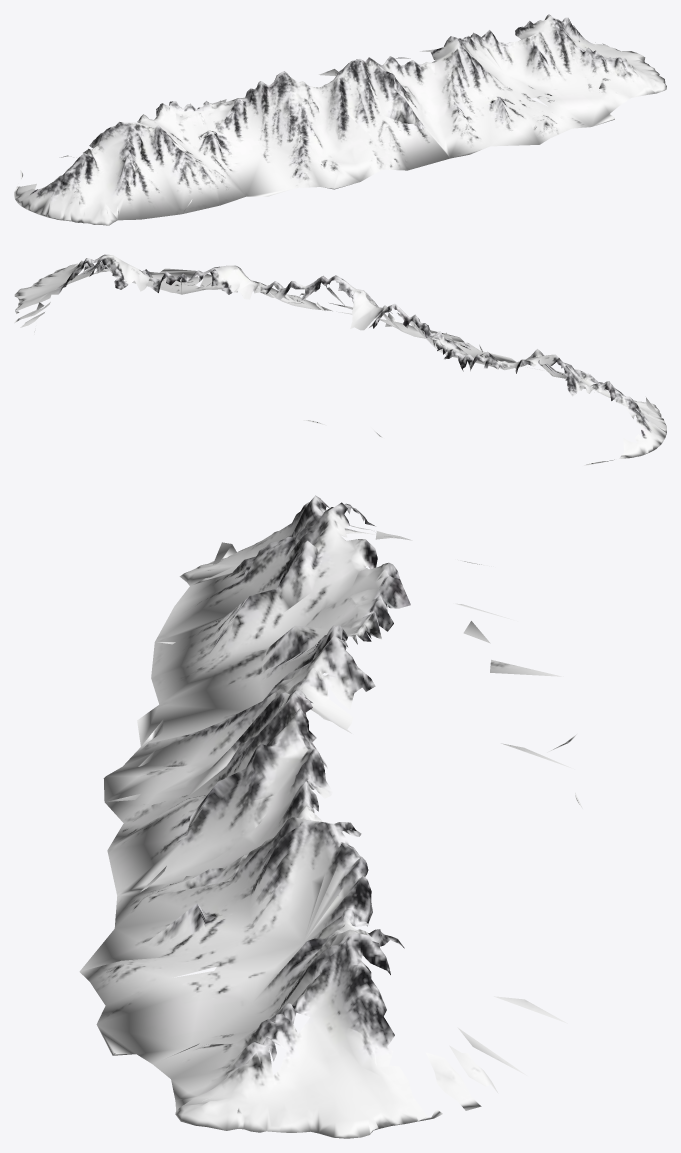
The model's file is mountain-spine-high.glb.
The picture shows the model from 3 angles, top to bottom: view 1: azimuth 30°, elevation 25°; view 2: azimuth 150°, elevation 25°; view 3: azimuth 270°, elevation 25°; orthographic projection. The views are drawn at different scales.
Parts seen in each view (by area): view 1: mountain-spine-high; view 2: mountain-spine-high; view 3: mountain-spine-high.
Part boxes in pixels (x1,y1,x2,y2): mountain-spine-high: (14,14,666,225); mountain-spine-high: (14,254,666,466); mountain-spine-high: (79,495,582,1138).
Bounding box in the file's own units: 2 × 0.2477 × 0.7291.
1 material, 1 textured.
